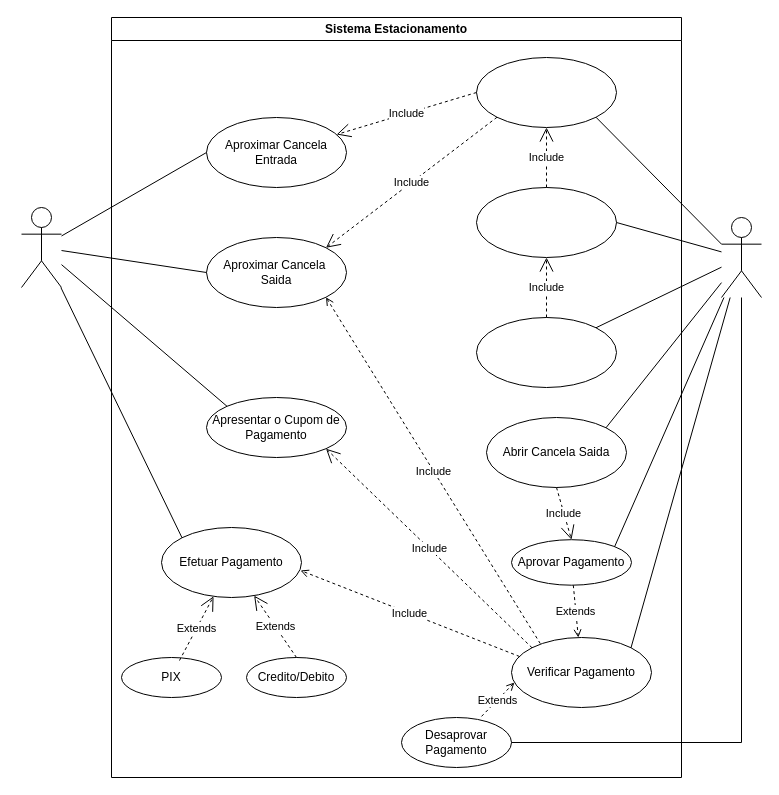
Some shapes in this 779 by 795 pixel diagram are drawn without their labels. Each missing label, with the centre of its shape:
Abrir Cancela Entrada: (546,352)
Detectar a Placa: (546,92)
Gerar QR Code: (546,222)
Motorista: (41,247)
Sensor: (741,257)
